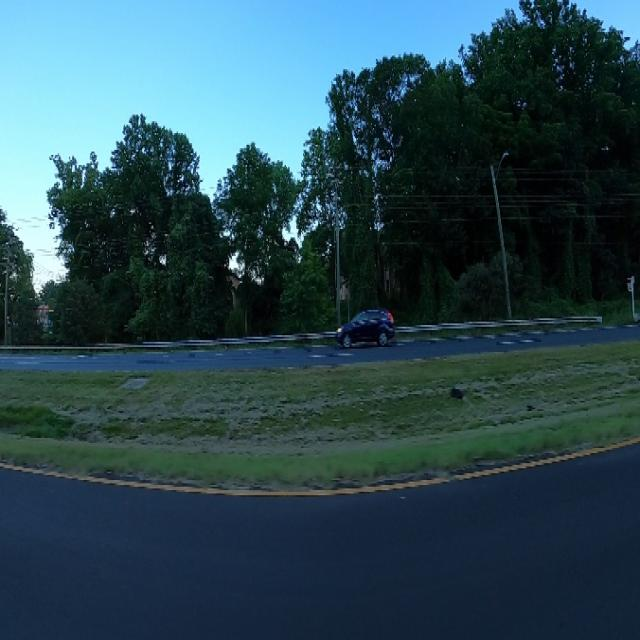cars: (332, 296, 399, 354)
